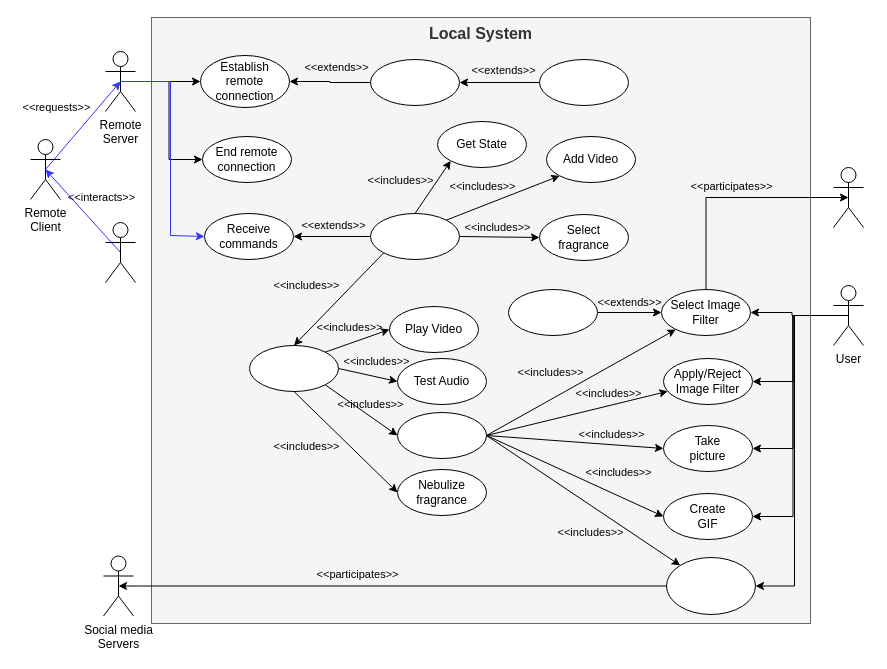
This 887x669 diagram has some shape labels left out. The shapes that lost their labels are listed below. From the top down, each one's box as (x1, y1, x2, y2) in pixels, then its label:
(370, 58, 460, 106): Accept/Reject connection
(538, 58, 628, 106): Verify Credentials
(832, 166, 864, 228): Image Filtering APIs
(104, 222, 136, 282): Admin
(370, 212, 460, 260): Process commands
(508, 288, 598, 336): Apply Facial Recognition
(248, 344, 338, 392): Test Operation
(396, 412, 486, 458): Test Camera
(666, 556, 756, 614): Share multimedia on social media
